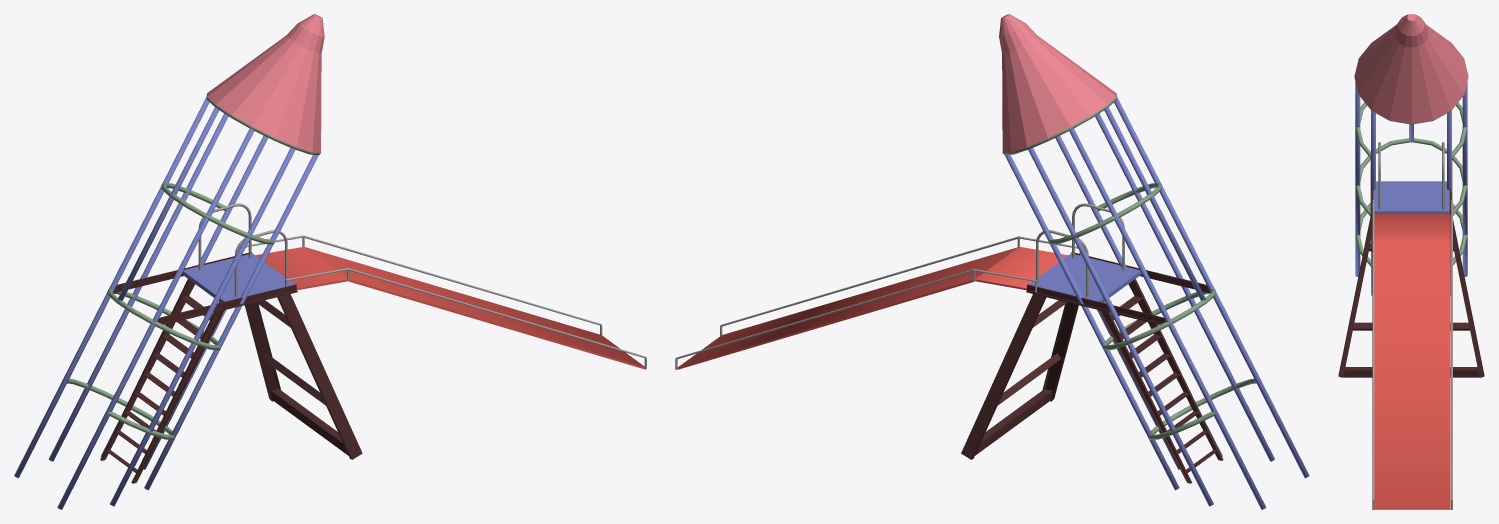
File: rocket.glb
The picture shows the model from 3 angles, left to right: view 1: azimuth 30°, elevation 25°; view 2: azimuth 150°, elevation 25°; view 3: azimuth 270°, elevation 25°; orthographic projection. The views are drawn at different scales.
Visible parts, largest first — view 1: Rocket Torso, Ladder Structure, Slide, Rocket Nose, Rocket Ribs, Slide handles, Handle bars; view 2: Rocket Torso, Ladder Structure, Slide, Rocket Nose, Rocket Ribs, Slide handles, Handle bars; view 3: Slide, Rocket Nose, Ladder Structure, Rocket Torso, Rocket Ribs, Slide handles, Handle bars.
Part boxes in pixels (left/top/right/bottom): Rocket Torso: left=14, top=97, right=318, bottom=509; Ladder Structure: left=100, top=252, right=362, bottom=483; Slide: left=182, top=246, right=646, bottom=369; Rocket Nose: left=207, top=14, right=324, bottom=153; Rocket Ribs: left=67, top=95, right=320, bottom=440; Slide handles: left=246, top=235, right=646, bottom=368; Handle bars: left=198, top=203, right=287, bottom=296; Rocket Torso: left=1005, top=97, right=1309, bottom=509; Ladder Structure: left=961, top=252, right=1223, bottom=483; Slide: left=677, top=247, right=1141, bottom=369; Rocket Nose: left=999, top=14, right=1116, bottom=153; Rocket Ribs: left=1003, top=95, right=1256, bottom=440; Slide handles: left=675, top=236, right=1081, bottom=369; Handle bars: left=1036, top=203, right=1124, bottom=296; Slide: left=1373, top=181, right=1450, bottom=509; Rocket Nose: left=1354, top=14, right=1468, bottom=123; Ladder Structure: left=1338, top=159, right=1484, bottom=377; Rocket Torso: left=1355, top=81, right=1467, bottom=295; Rocket Ribs: left=1355, top=102, right=1467, bottom=267; Slide handles: left=1372, top=199, right=1452, bottom=509; Handle bars: left=1378, top=142, right=1444, bottom=209.
Size of the model in its own units: 7.07 by 4.75 by 1.73.
